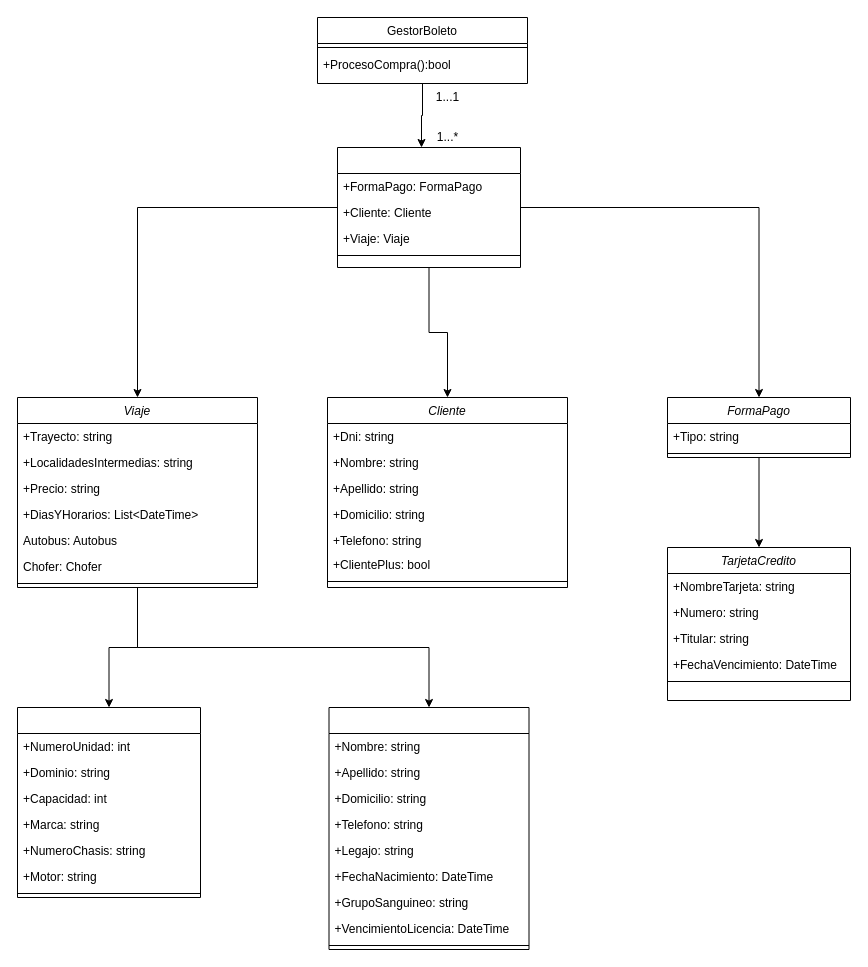
Image size: 868x967. Some labels were removed from this diagram. The box of each missing label's shape, as (x1, y1, x2, y2) in pixels:
Autobus: (16, 706, 200, 898)
Boleto: (336, 146, 520, 268)
Chofer: (328, 706, 529, 950)
